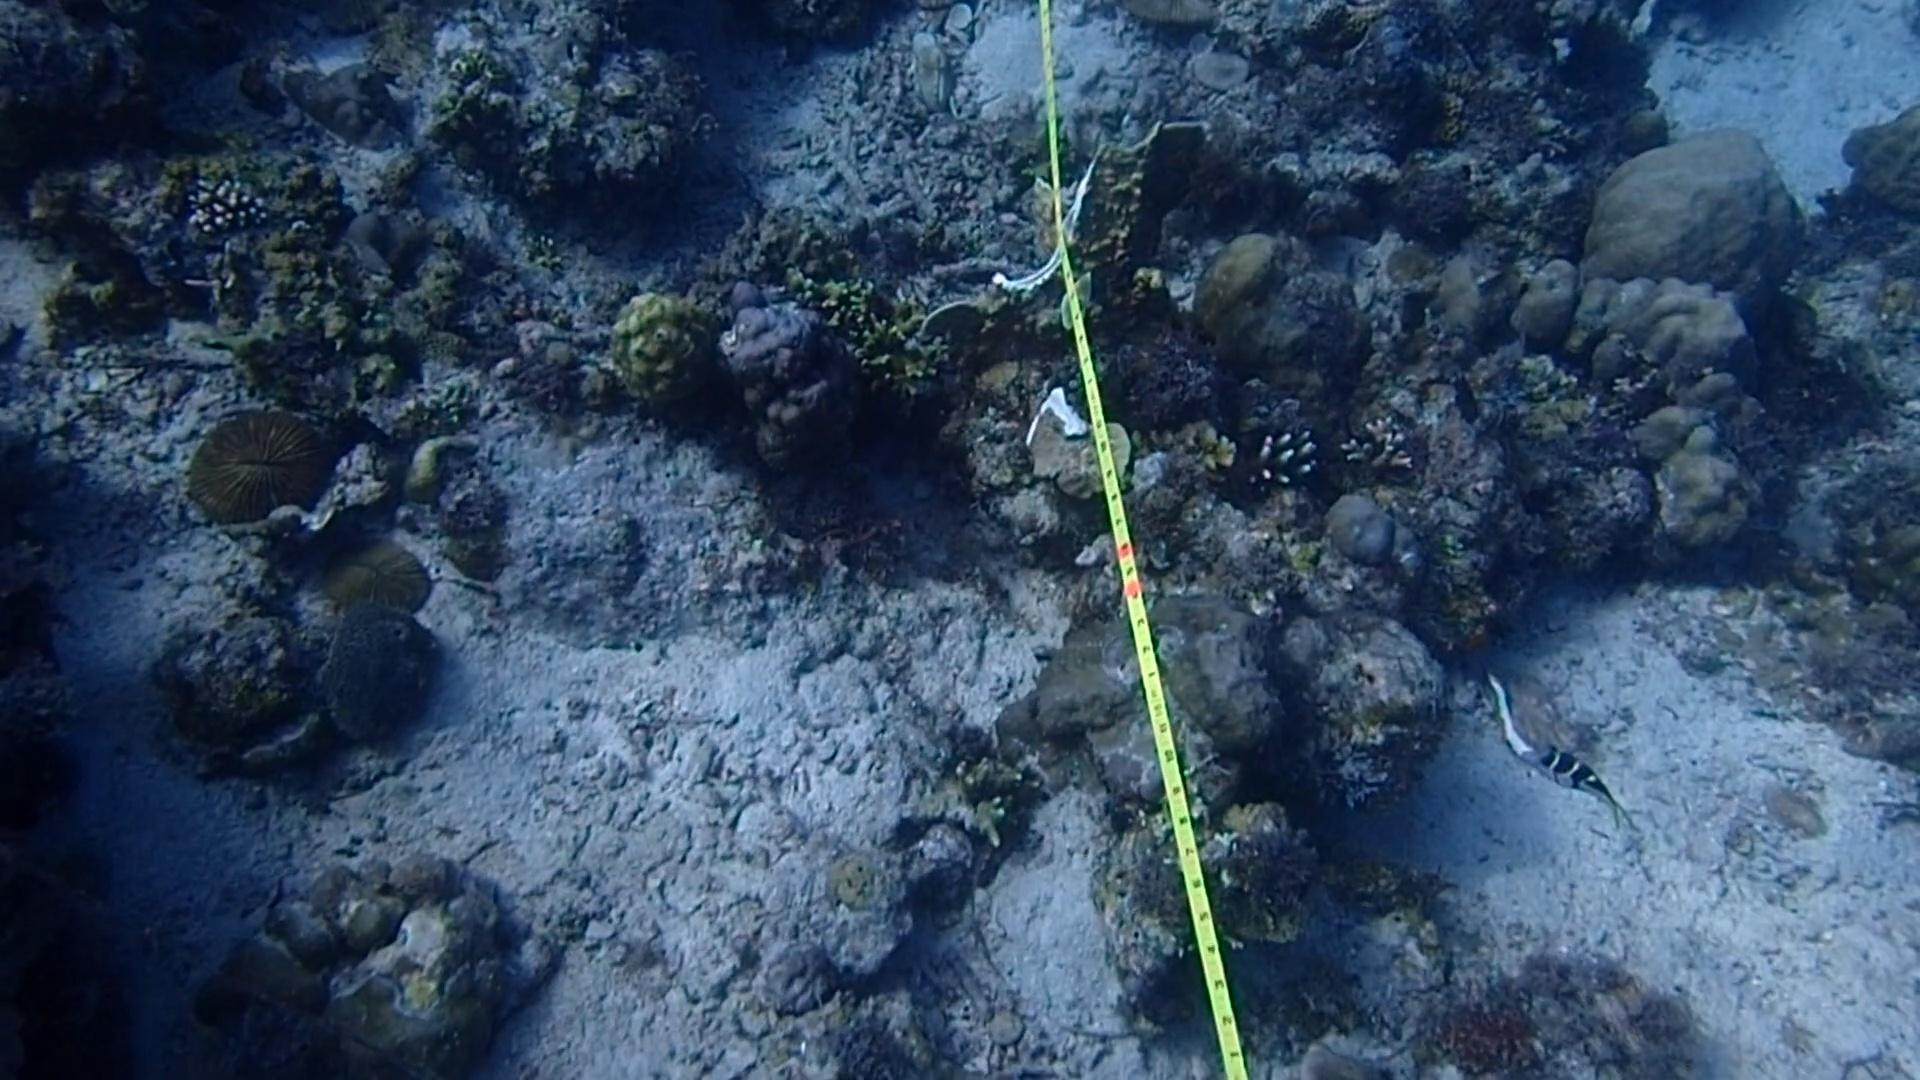Striped Fish: (1523, 731, 1621, 824)
